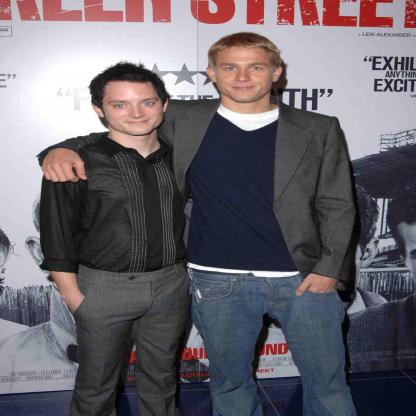face: (103, 78, 166, 137), (218, 48, 277, 102)
